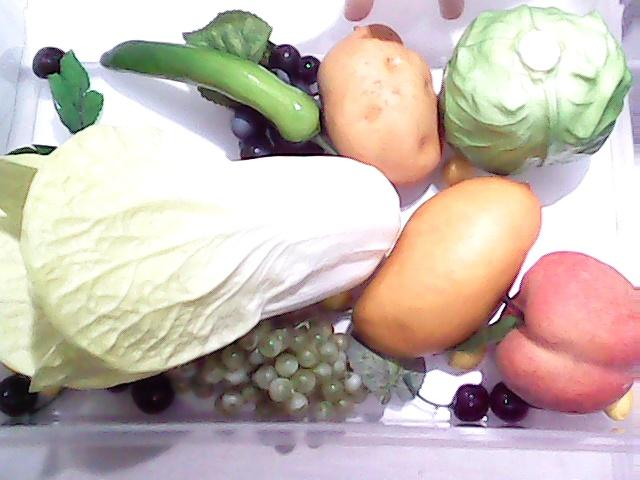cabbage: (422, 0, 640, 184)
grape: (182, 7, 326, 158), (226, 316, 374, 428)
mango: (353, 176, 542, 360)
napa cabbage: (0, 123, 392, 420)
peach: (486, 252, 640, 440)
pepper: (100, 23, 324, 145)
potato: (319, 23, 443, 185)
